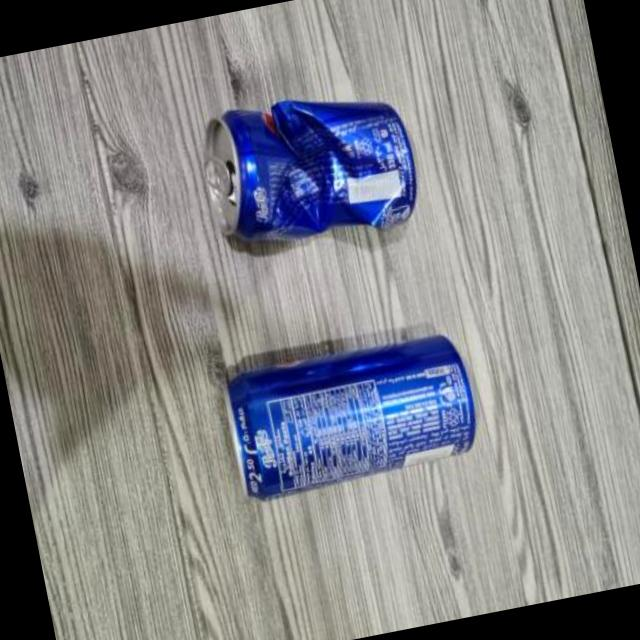metal: (232, 333, 477, 495), (207, 97, 418, 236)
